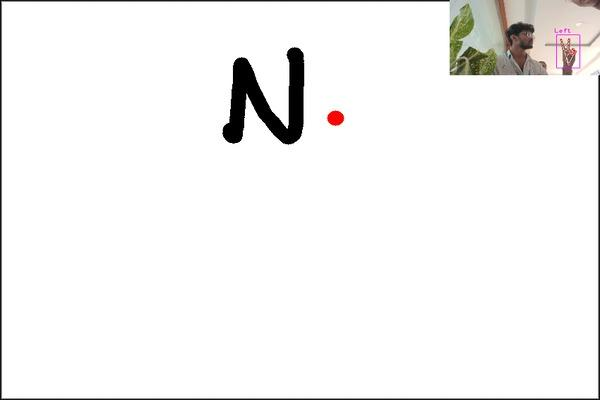N: (216, 41, 314, 151)
